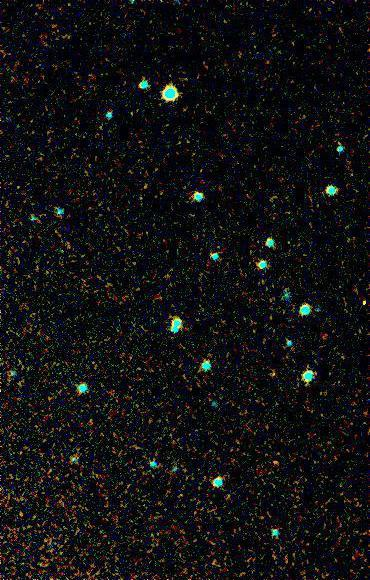star: (259, 448, 289, 478)
